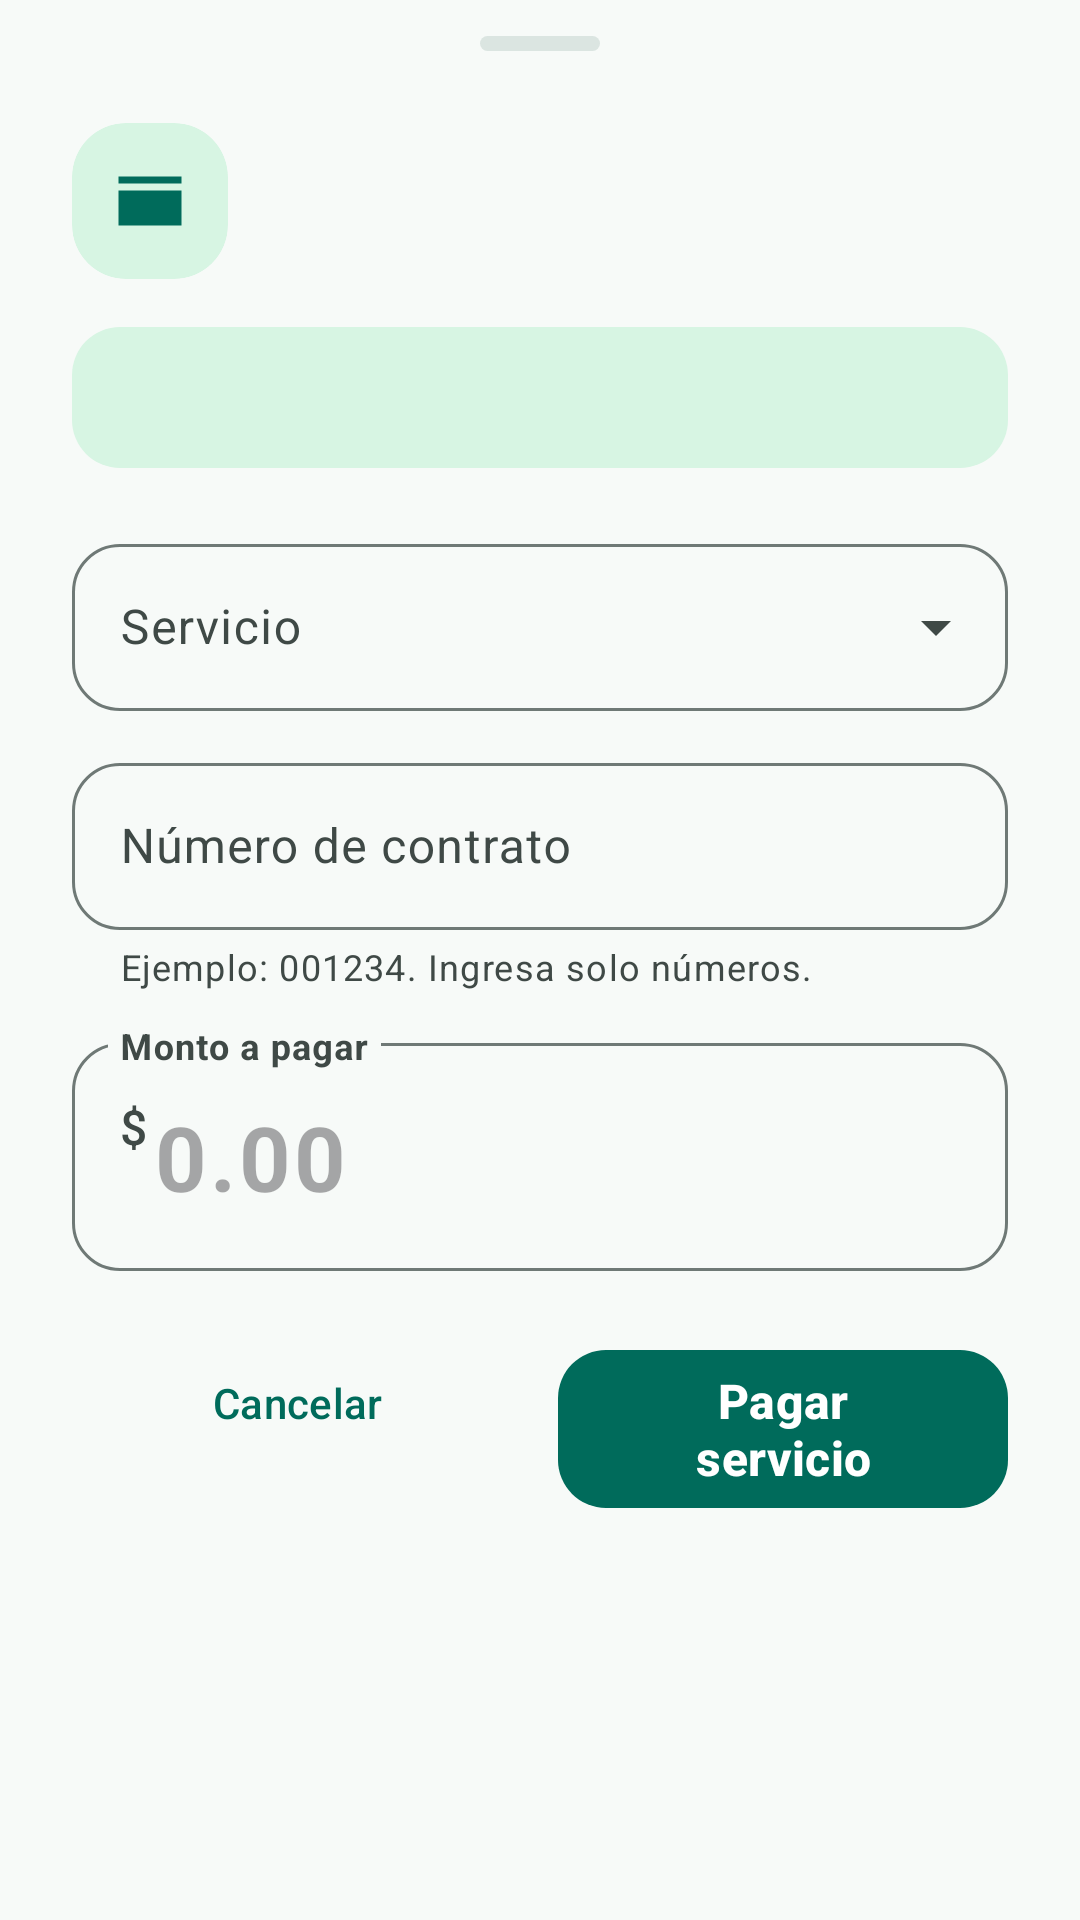

Screen size 1080px x 1920px. Icon name, then its box in pixels as bbox=(x1, y1, x2, y2):
wallet: bbox=(118, 176, 182, 226)
